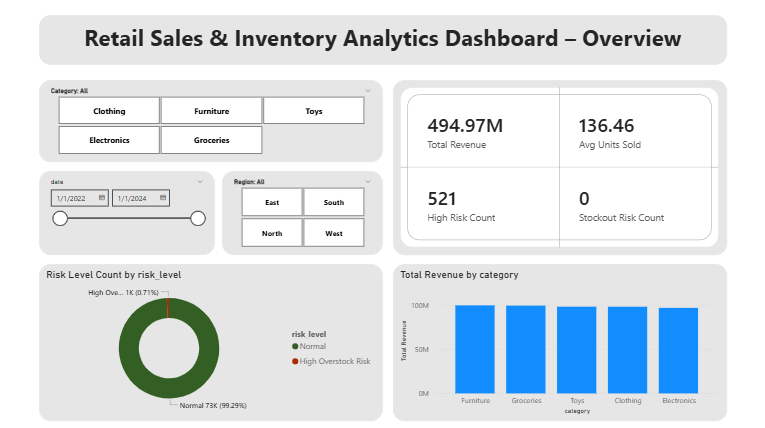

Layout of this report page (visuals, bound fields, positions):
{"tool":"powerbi","page":{"name":"Overview","canvas":[1280,720],"ordinal":0},"visuals":[{"type":"cardVisual","fields":{"Data":["retail_db sales_transactions.Total Revenue","retail_db sales_transactions.Avg Units Sold","retail_db inventory_risk_metrics.High Risk Count","retail_db inventory_risk_metrics.Stockout Risk Count"]},"box":[656.7,135,556.7,291.7],"z":0},{"type":"slicer","fields":{"Values":["retail_db sales_transactions.category"]},"box":[66.7,135,573.3,136.7],"z":4000},{"type":"slicer","fields":{"Values":["retail_db sales_transactions.region"]},"box":[371.7,286.7,268.3,140],"z":5000},{"type":"slicer","fields":{"Values":["retail_db sales_transactions.date"]},"box":[66.7,286.7,293.3,140],"z":6000},{"type":"textbox","box":[66.7,26.7,1146.7,83.3],"z":7000},{"type":"clusteredColumnChart","fields":{"Category":["retail_db sales_transactions.category"],"Y":["retail_db sales_transactions.Total Revenue"]},"box":[656.7,441.7,556.7,261.7],"z":8000},{"type":"donutChart","fields":{"Category":["retail_db inventory_risk_metrics.risk_level"],"Y":["retail_db inventory_risk_metrics.Risk Level Count"]},"box":[66.7,441.7,573.3,261.7],"z":9000}]}

Visuals, with their boxes in screenshot pixels (x1, y1, x2, y2), scaled from the page's 1280x720 canvas onto the 765x428 screenshot:
cardVisual - retail_db sales_transactions.Total Revenue x retail_db sales_transactions.Avg Units Sold: x1=392 y1=80 x2=725 y2=254
slicer - retail_db sales_transactions.category: x1=40 y1=80 x2=382 y2=162
slicer - retail_db sales_transactions.region: x1=222 y1=170 x2=382 y2=254
slicer - retail_db sales_transactions.date: x1=40 y1=170 x2=215 y2=254
textbox: x1=40 y1=16 x2=725 y2=65
clusteredColumnChart - retail_db sales_transactions.category x retail_db sales_transactions.Total Revenue: x1=392 y1=263 x2=725 y2=418
donutChart - retail_db inventory_risk_metrics.risk_level x retail_db inventory_risk_metrics.Risk Level Count: x1=40 y1=263 x2=382 y2=418
